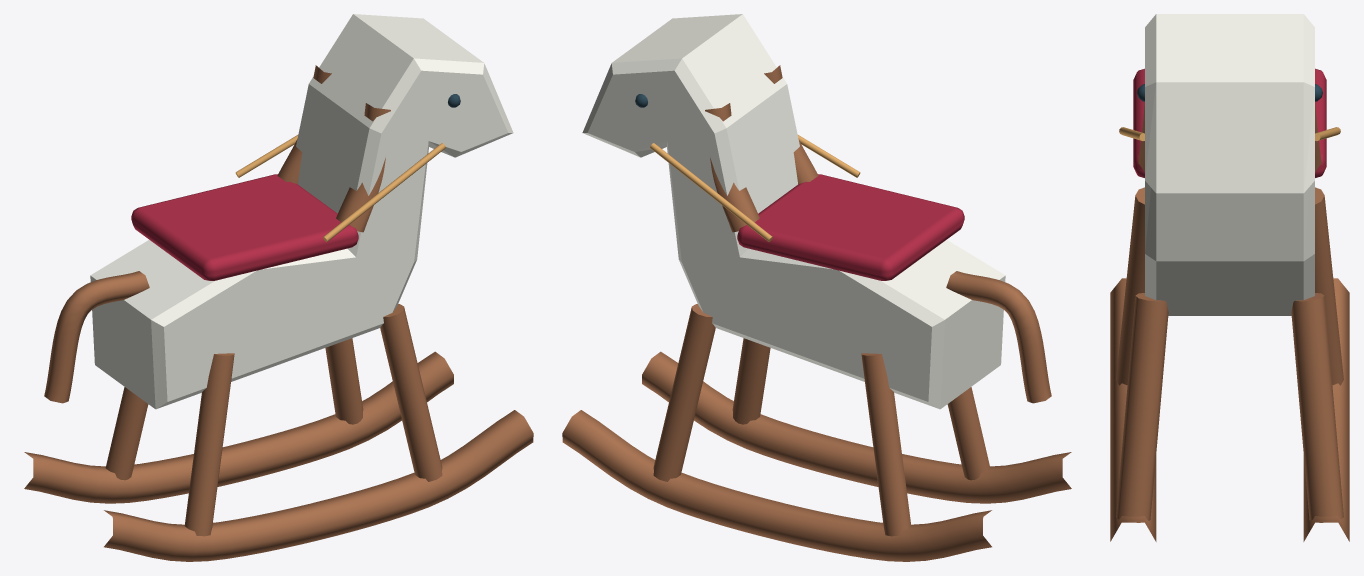
Rendered from storybook-christmas-market-painted-rocking-horse-b155d500__19728.glb.
The picture shows the model from 3 angles, left to right: view 1: azimuth 30°, elevation 25°; view 2: azimuth 150°, elevation 25°; view 3: azimuth 270°, elevation 25°; orthographic projection. The views are drawn at different scales.
Visible parts, largest first — view 1: painted-rocking-horse; view 2: painted-rocking-horse; view 3: painted-rocking-horse.
Part boxes in pixels (<box>): painted-rocking-horse: <box>24,14,533,561</box>; painted-rocking-horse: <box>562,14,1071,561</box>; painted-rocking-horse: <box>1110,14,1349,541</box>.
Size of the model in its own units: 1.22 by 1.17 by 0.47.
